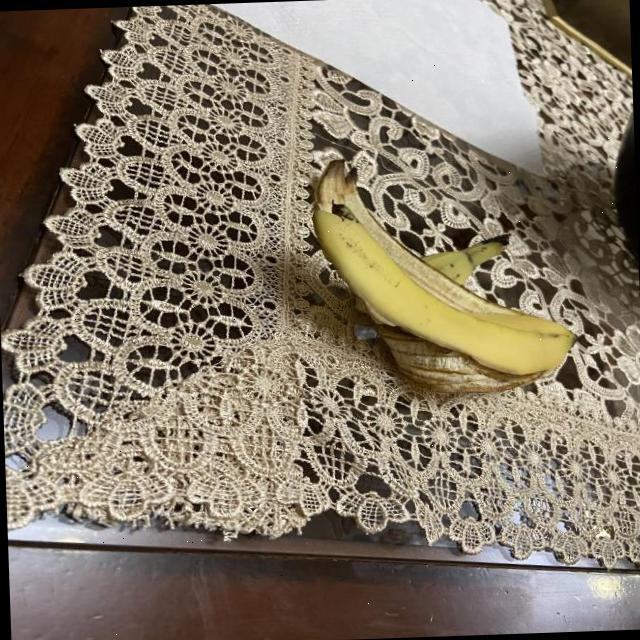banana-peel: (308, 149, 578, 394)
